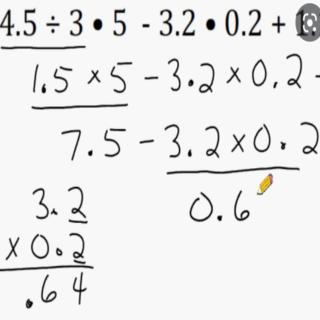.: (25, 295, 35, 309), (54, 244, 64, 257), (86, 146, 95, 159), (280, 138, 288, 152), (49, 206, 60, 216), (186, 78, 196, 87), (215, 213, 224, 222), (40, 84, 48, 94), (272, 79, 279, 90), (186, 148, 194, 157)
0: (186, 190, 214, 223), (252, 123, 273, 154), (29, 232, 51, 260), (251, 59, 268, 88)
1: (31, 61, 40, 93)
2: (66, 183, 91, 220), (60, 126, 82, 163), (298, 119, 320, 156), (284, 52, 305, 89), (202, 123, 223, 160), (67, 229, 89, 260), (198, 59, 217, 94)
3: (163, 122, 183, 160), (30, 184, 50, 220), (166, 56, 183, 92)
4: (71, 270, 89, 306)
5: (109, 61, 135, 94), (103, 126, 127, 159), (53, 64, 73, 95)
6: (232, 187, 251, 222), (39, 273, 58, 303)
